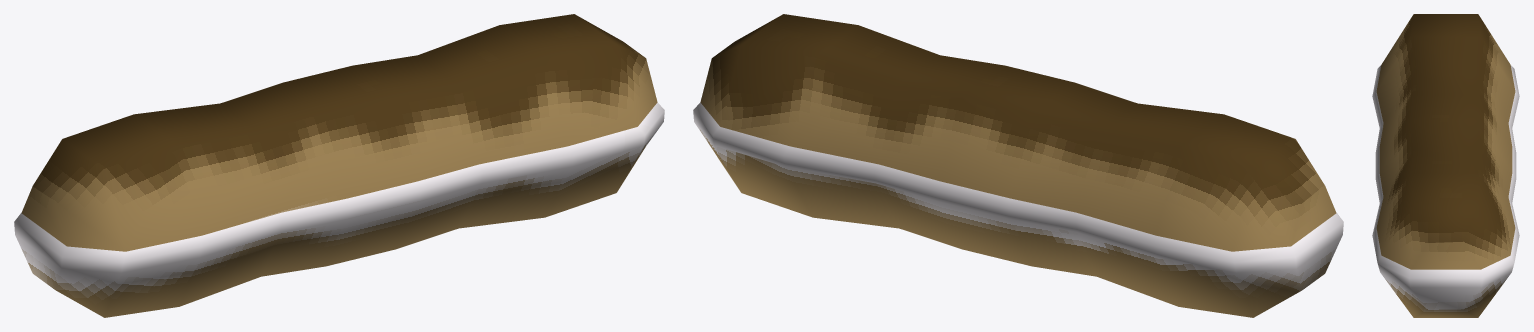
The model's file is Eclair.glb.
3 views of the same model, side by side, from view 1: azimuth 30°, elevation 25°; view 2: azimuth 150°, elevation 25°; view 3: azimuth 270°, elevation 25° (orthographic). The views are drawn at different scales.
Parts seen in each view (by area): view 1: Eclair; view 2: Eclair; view 3: Eclair.
Boxes of the visible parts, box(x1,y1,x2,y2) form: Eclair: box(14, 14, 664, 317); Eclair: box(693, 14, 1343, 317); Eclair: box(1372, 14, 1519, 317).
Size of the model in its own units: 0.153 by 0.0386 by 0.0424.
Materials: 1 (1 with a texture image).
